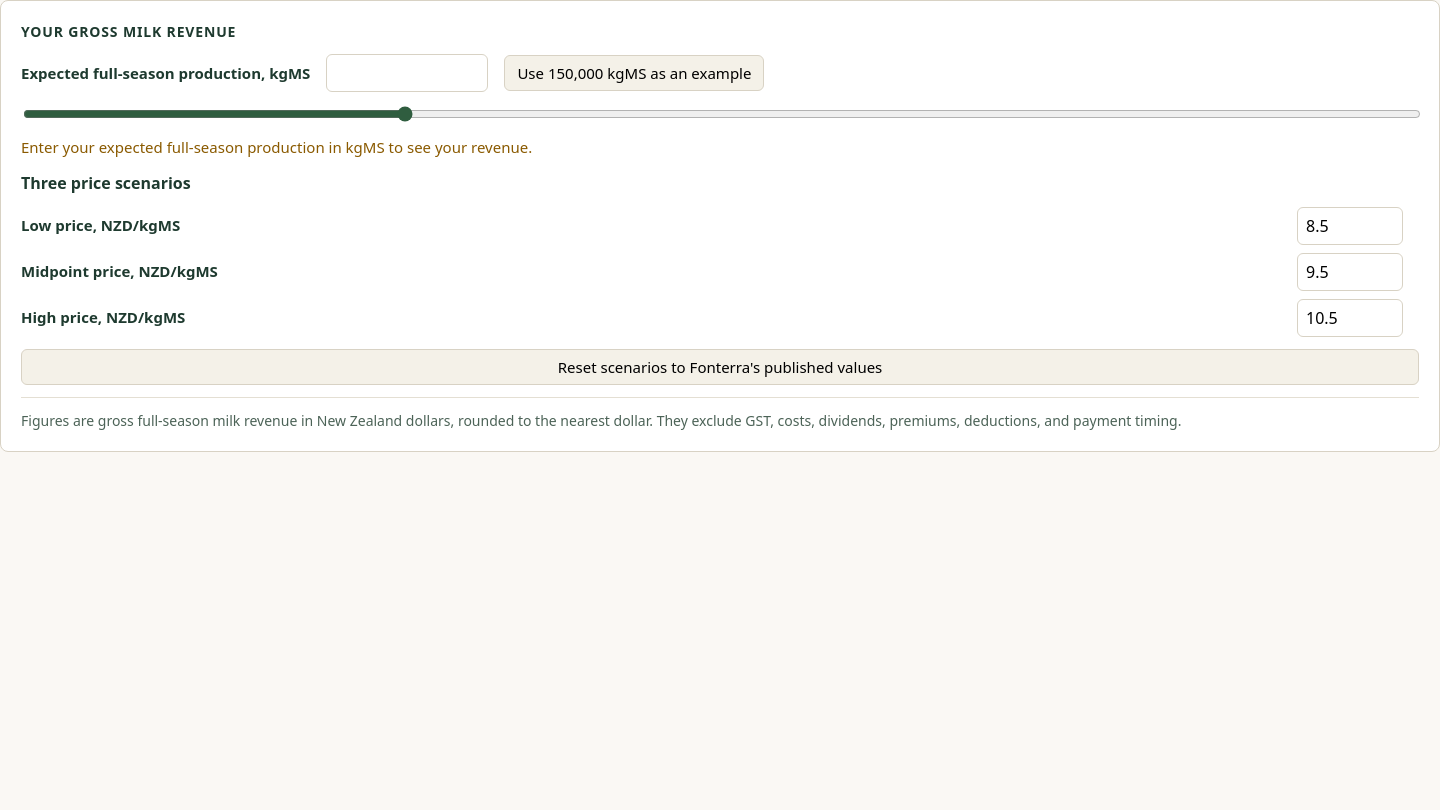
Test case: production slider › writes the stepped value through to the text field on drag
Set the slider named "Production slider" to "250000" at (693, 114), box [23,106,1421,122]
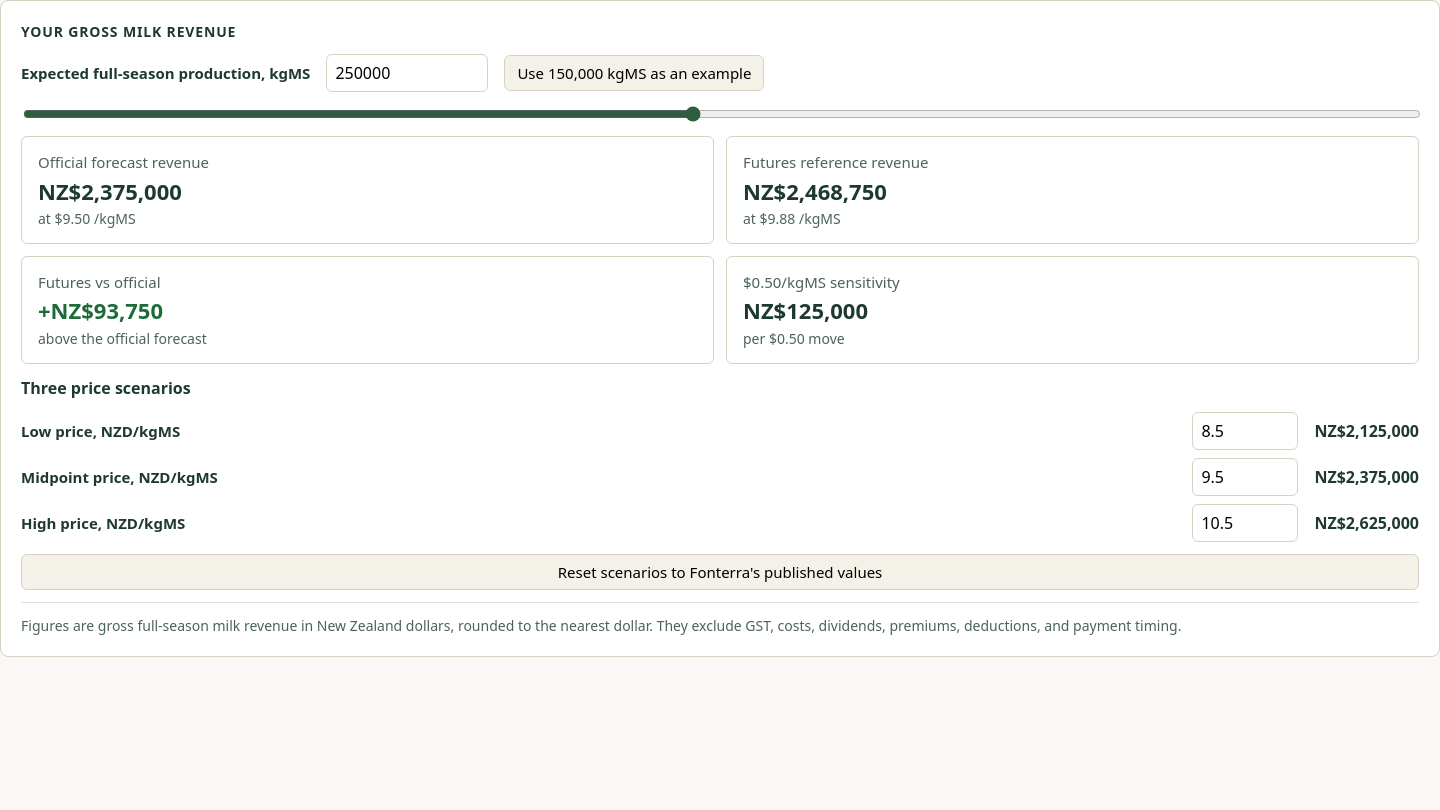
Expected: the field labelled "Expected full-season production, kgMS" holds "250000", [326,54,488,92]
Expected: the text "NZ$2,375,000" below "Official forecast revenue" is shown, [38,176,182,206]
